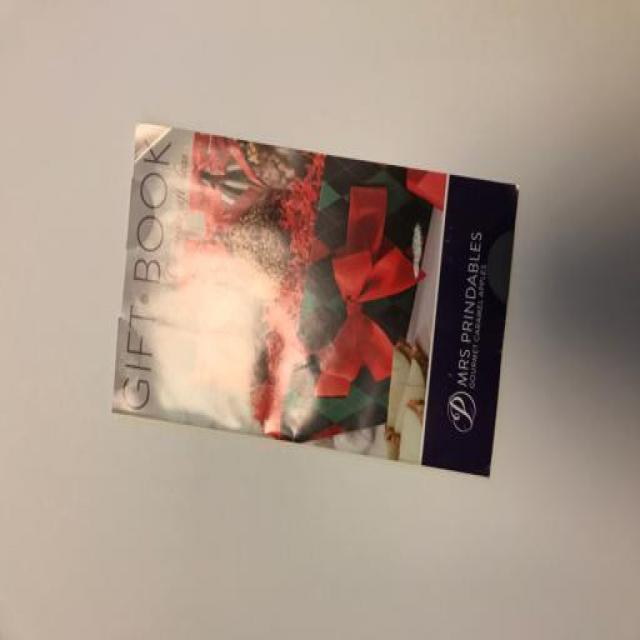paper: (109, 111, 532, 487)
